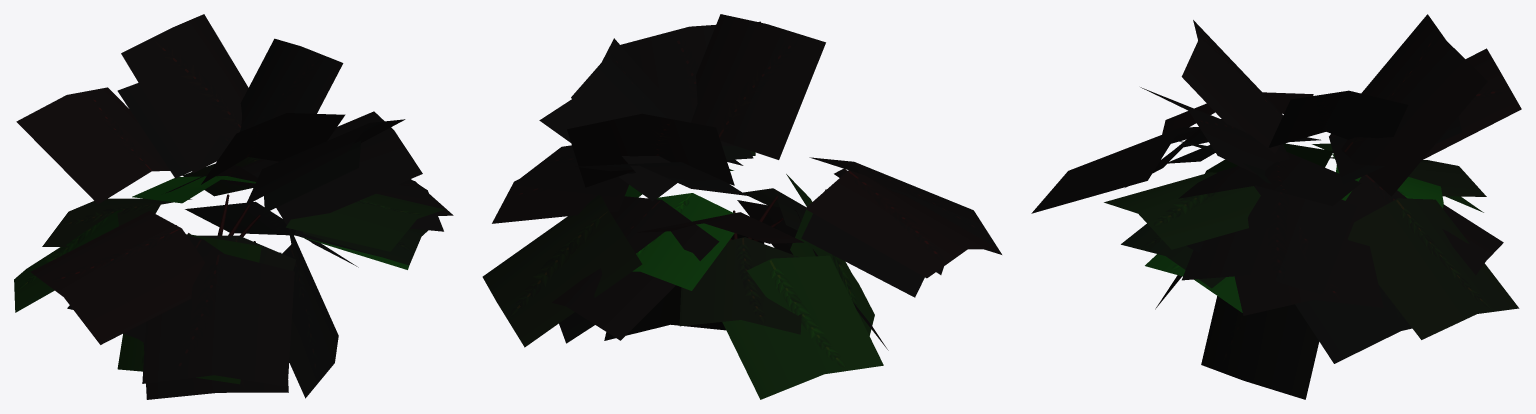
File: veg_tamarind1_card.glb
3 views of the same model, side by side, from view 1: azimuth 30°, elevation 25°; view 2: azimuth 150°, elevation 25°; view 3: azimuth 270°, elevation 25° (orthographic). The views are drawn at different scales.
Parts seen in each view (by area): view 1: tamarind_1; view 2: tamarind_1; view 3: tamarind_1.
Boxes of the visible parts, x1,y1,x2,y2 form: tamarind_1: (14, 14, 453, 399); tamarind_1: (482, 14, 1001, 399); tamarind_1: (1031, 14, 1521, 399).
Size of the model in its own units: 28.64 by 20.32 by 28.77.
2 materials, 2 textured.
